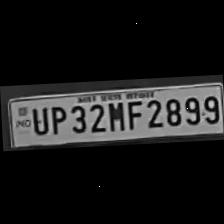2: (84, 99, 106, 133), (142, 95, 162, 129)
3: (64, 100, 86, 132)
8: (160, 93, 182, 126)
9: (199, 90, 221, 124), (180, 92, 200, 124)
F: (122, 96, 142, 130)
M: (104, 96, 124, 132)
P: (44, 102, 66, 134)
U: (26, 103, 46, 135)
